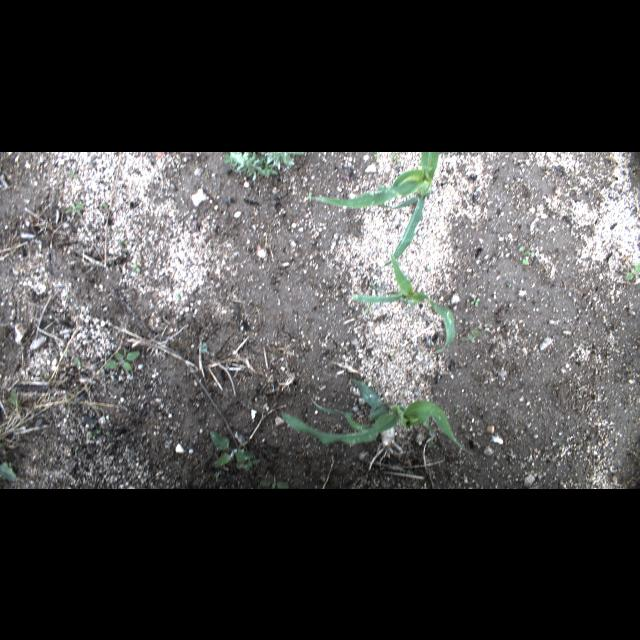crop: (308, 151, 439, 269), (281, 378, 473, 454), (353, 248, 455, 352)
weed: (210, 431, 262, 471), (224, 151, 278, 181), (103, 346, 141, 369), (458, 321, 492, 341), (265, 151, 305, 167), (0, 458, 20, 482), (65, 199, 87, 219), (258, 478, 290, 488), (518, 246, 534, 264), (625, 262, 639, 280), (66, 166, 78, 180), (70, 359, 86, 367), (471, 297, 481, 307), (197, 342, 207, 352), (87, 430, 101, 436), (133, 263, 141, 271)
